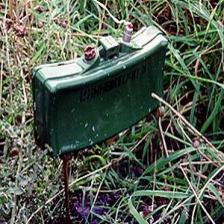MOH-50: (30, 24, 169, 157)
